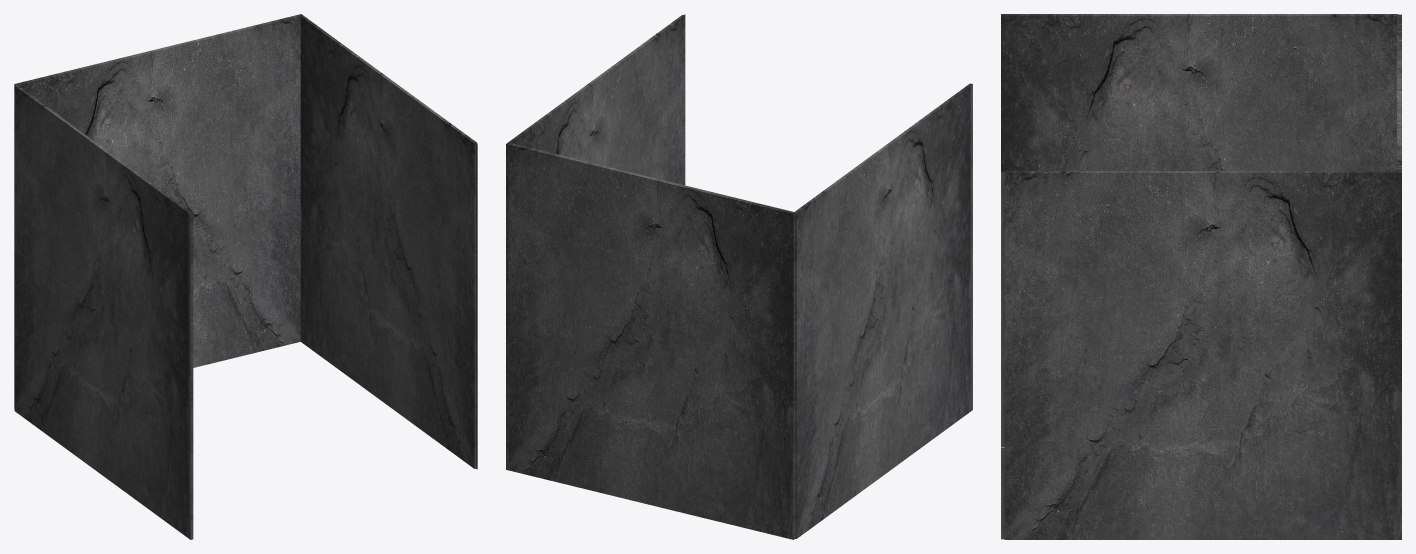
File: ParteP1.obj
3 renders of one model, left to right at view 1: azimuth 30°, elevation 25°; view 2: azimuth 150°, elevation 25°; view 3: azimuth 270°, elevation 25°, orthographic. The views are drawn at different scales.
Parts seen in each view (by area): view 1: pCube25; view 2: pCube25; view 3: pCube25.
Part boxes in pixels (bbox=[...]): pCube25: bbox=[14, 14, 477, 539]; pCube25: bbox=[506, 14, 972, 539]; pCube25: bbox=[1001, 14, 1401, 539].
Size of the model in its own units: 22.25 by 23.99 by 23.74.
